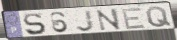6: (50, 11, 69, 34)
E: (121, 7, 147, 30)
J: (76, 9, 96, 32)
N: (95, 8, 123, 32)
Q: (145, 6, 173, 28)
S: (22, 12, 48, 36)
